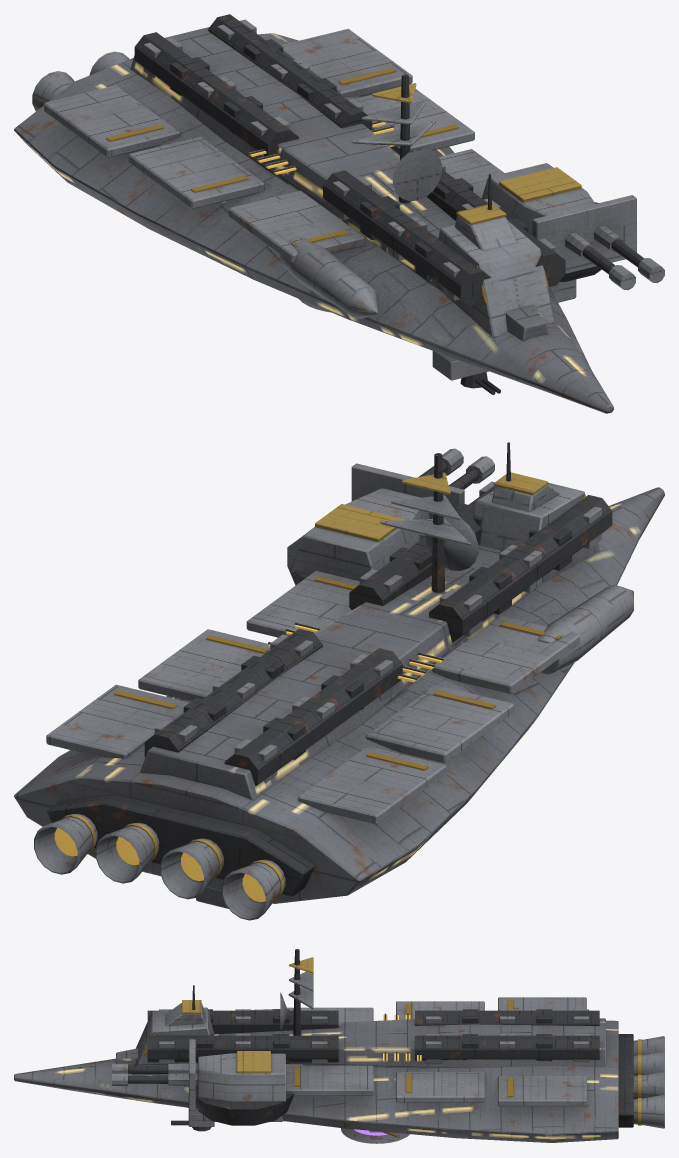
File: grael_picket.glb
3 renders of one model, top to bottom at view 1: azimuth 30°, elevation 25°; view 2: azimuth 150°, elevation 25°; view 3: azimuth 270°, elevation 25°, orthographic. The views are drawn at different scales.
Parts seen in each view (by area): view 1: HULL, SYS_BUS_A, SYS_WPN1, SYS_BUS_F, SYS_BRIDGE, SYS_SENSORS, SYS_DRIVE, SYS_PD, SYS_REACTOR; view 2: HULL, SYS_DRIVE, SYS_BUS_A, SYS_BUS_F, SYS_WPN1, SYS_BRIDGE, SYS_SENSORS, SYS_REACTOR; view 3: HULL, SYS_WPN1, SYS_BUS_A, SYS_BUS_F, SYS_DRIVE, SYS_BRIDGE, SYS_SENSORS, SYS_DAMP, SYS_PD, SYS_REACTOR.
Part boxes in pixels (x1=…): HULL: x1=14, y1=27, x2=613, y2=413; SYS_BUS_A: x1=134, y1=14, x2=372, y2=160; SYS_WPN1: x1=482, y1=163, x2=664, y2=302; SYS_BUS_F: x1=323, y1=164, x2=565, y2=306; SYS_BRIDGE: x1=435, y1=174, x2=553, y2=337; SYS_SENSORS: x1=351, y1=74, x2=441, y2=203; SYS_DRIVE: x1=32, y1=51, x2=129, y2=111; SYS_PD: x1=432, y1=351, x2=500, y2=394; SYS_REACTOR: x1=248, y1=121, x2=395, y2=174; HULL: x1=14, y1=487, x2=664, y2=903; SYS_DRIVE: x1=34, y1=794, x2=314, y2=920; SYS_BUS_A: x1=144, y1=628, x2=402, y2=786; SYS_BUS_F: x1=349, y1=481, x2=612, y2=642; SYS_WPN1: x1=287, y1=448, x2=494, y2=585; SYS_BRIDGE: x1=474, y1=442, x2=599, y2=583; SYS_SENSORS: x1=380, y1=453, x2=478, y2=592; SYS_REACTOR: x1=268, y1=622, x2=443, y2=682; HULL: x1=14, y1=997, x2=618, y2=1142; SYS_WPN1: x1=112, y1=1039, x2=293, y2=1125; SYS_BUS_A: x1=415, y1=1009, x2=599, y2=1063; SYS_BUS_F: x1=147, y1=1009, x2=338, y2=1063; SYS_DRIVE: x1=618, y1=1034, x2=664, y2=1128; SYS_BRIDGE: x1=132, y1=985, x2=214, y2=1075; SYS_SENSORS: x1=280, y1=949, x2=313, y2=1035; SYS_DAMP: x1=341, y1=1128, x2=409, y2=1143; SYS_PD: x1=171, y1=1108, x2=214, y2=1131; SYS_REACTOR: x1=369, y1=1013, x2=421, y2=1132.
Size of the model in its own units: 9.62 by 7.27 by 23.4.
Materials: 1 (1 with a texture image).
